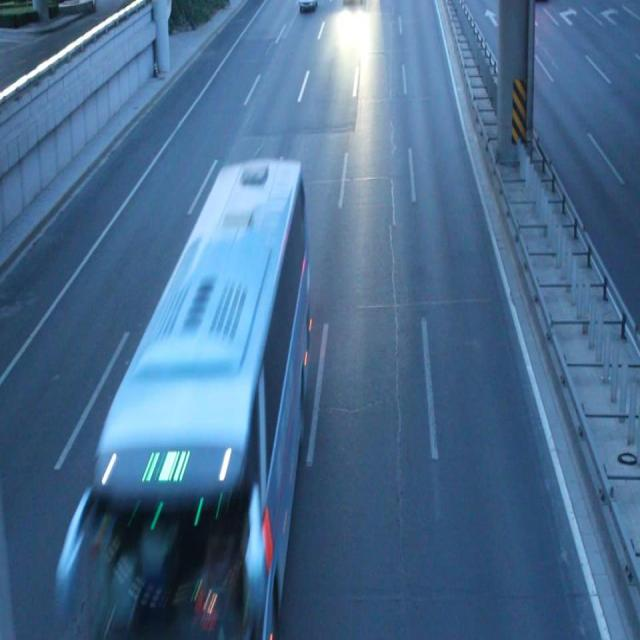van: (61, 156, 309, 640)
